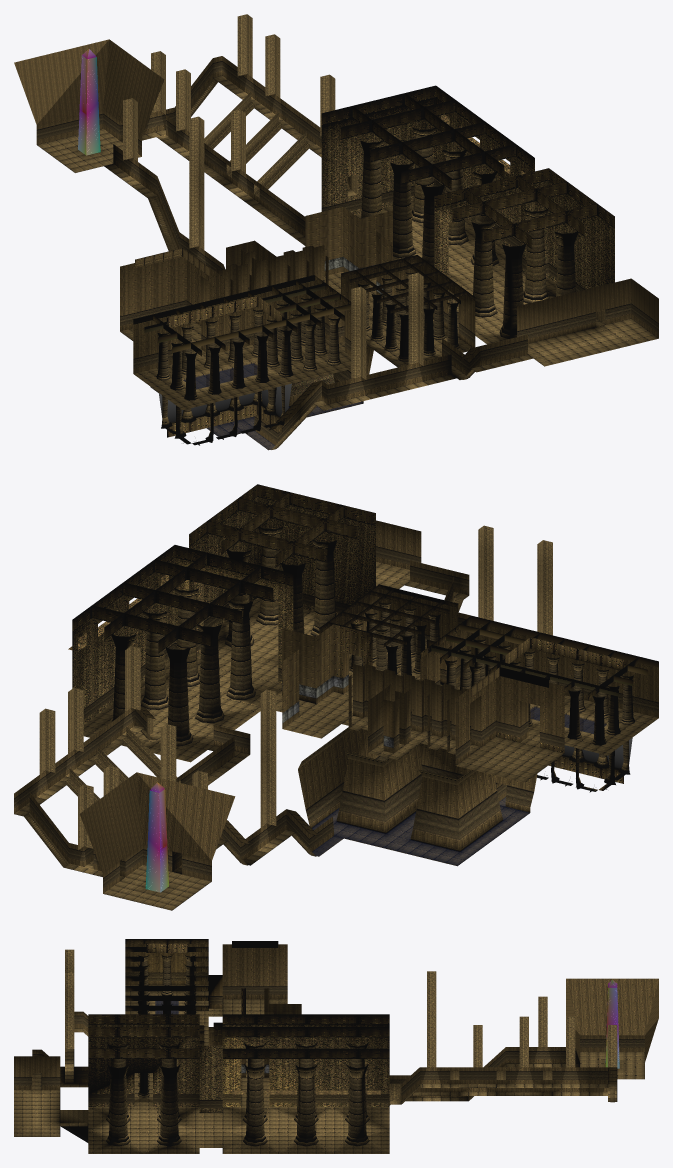
The model's file is Egyptian.glb.
3 renders of one model, top to bottom at view 1: azimuth 30°, elevation 25°; view 2: azimuth 150°, elevation 25°; view 3: azimuth 270°, elevation 25°, orthographic. The views are drawn at different scales.
Parts seen in each view (by area): view 1: Egyptian_3, Egyptian_10, Egyptian_2, Egyptian_1, Egyptian_4, Egyptian_5, Egyptian_0, Egyptian_7, Egyptian_6, Egyptian_13, Egyptian_11, Egyptian_Alpha_8; view 2: Egyptian_4, Egyptian_3, Egyptian_10, Egyptian_1, Egyptian_2, Egyptian_5, Egyptian_0, Egyptian_7, Egyptian_Alpha_8, Egyptian_6, Egyptian_13, Egyptian_9 (+1 smaller); view 3: Egyptian_1, Egyptian_10, Egyptian_3, Egyptian_2, Egyptian_5, Egyptian_4, Egyptian_0, Egyptian_7, Egyptian_6, Egyptian_14, Egyptian_11.
Part boxes in pixels (x1=…): Egyptian_3: x1=36, y1=61, x2=658, y2=442; Egyptian_10: x1=123, y1=14, x2=614, y2=448; Egyptian_2: x1=14, y1=39, x2=631, y2=445; Egyptian_1: x1=37, y1=75, x2=658, y2=450; Egyptian_4: x1=133, y1=58, x2=658, y2=447; Egyptian_5: x1=144, y1=93, x2=596, y2=356; Egyptian_0: x1=133, y1=85, x2=614, y2=445; Egyptian_7: x1=157, y1=127, x2=578, y2=445; Egyptian_6: x1=156, y1=189, x2=549, y2=407; Egyptian_13: x1=78, y1=49, x2=100, y2=155; Egyptian_11: x1=158, y1=364, x2=291, y2=422; Egyptian_Alpha_8: x1=183, y1=363, x2=362, y2=449; Egyptian_4: x1=69, y1=520, x2=658, y2=871; Egyptian_3: x1=14, y1=546, x2=658, y2=888; Egyptian_10: x1=24, y1=497, x2=552, y2=867; Egyptian_1: x1=14, y1=562, x2=658, y2=910; Egyptian_2: x1=14, y1=612, x2=564, y2=893; Egyptian_5: x1=92, y1=492, x2=647, y2=699; Egyptian_0: x1=72, y1=484, x2=658, y2=844; Egyptian_7: x1=111, y1=526, x2=633, y2=792; Egyptian_Alpha_8: x1=312, y1=707, x2=606, y2=865; Egyptian_6: x1=111, y1=599, x2=634, y2=851; Egyptian_13: x1=145, y1=782, x2=168, y2=892; Egyptian_9: x1=282, y1=674, x2=393, y2=747; Egyptian_1: x1=14, y1=985, x2=644, y2=1153; Egyptian_10: x1=60, y1=949, x2=617, y2=1122; Egyptian_3: x1=14, y1=961, x2=644, y2=1138; Egyptian_2: x1=74, y1=944, x2=658, y2=1100; Egyptian_5: x1=88, y1=947, x2=389, y2=1058; Egyptian_4: x1=14, y1=944, x2=607, y2=1096; Egyptian_0: x1=88, y1=939, x2=617, y2=1083; Egyptian_7: x1=107, y1=954, x2=368, y2=1078; Egyptian_6: x1=106, y1=991, x2=419, y2=1146; Egyptian_14: x1=605, y1=987, x2=619, y2=1068; Egyptian_11: x1=61, y1=1001, x2=178, y2=1142.
Bounding box in the file's own units: 260 × 118 × 410.
Materials: 15 (14 with a texture image).
